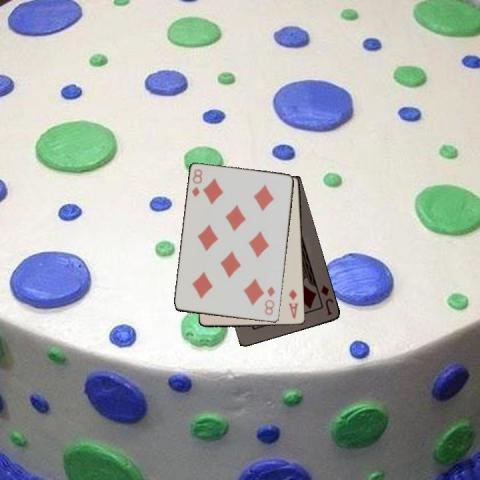8d: (262, 283, 277, 317), (189, 166, 204, 199)
Ad: (286, 287, 300, 320)
Jd: (318, 282, 335, 316)
